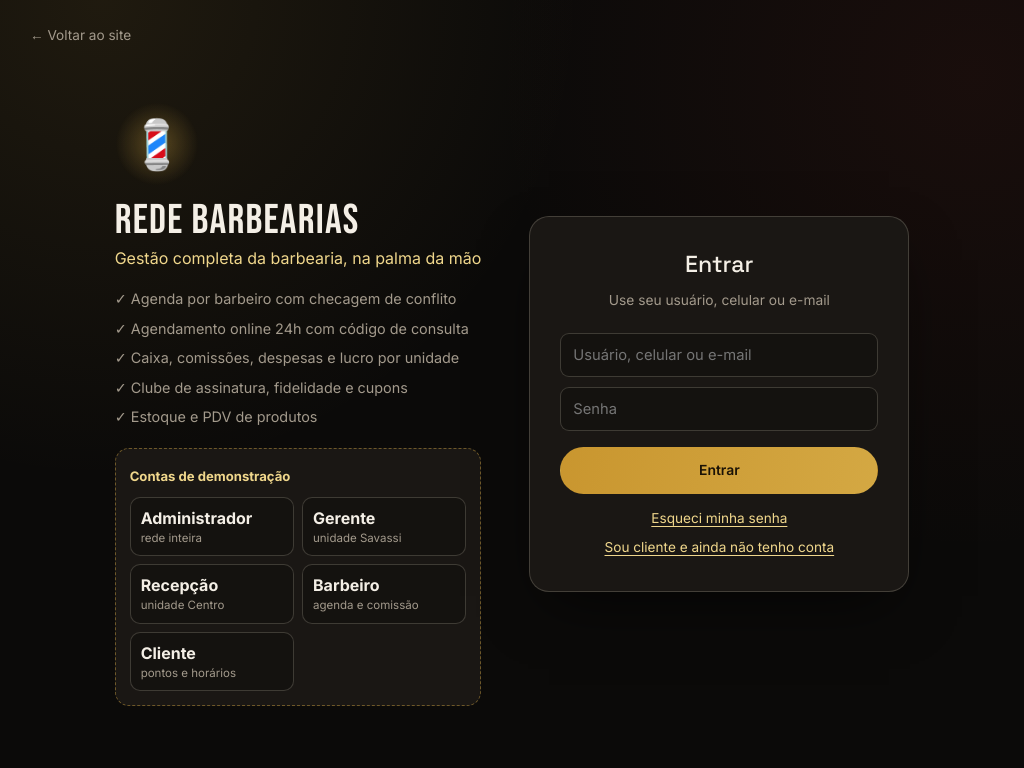
Test: Login › alterna pra criação de conta de cliente
Click the button "Sou cliente e ainda não tenho conta" at (719, 547), box [604, 536, 834, 557]
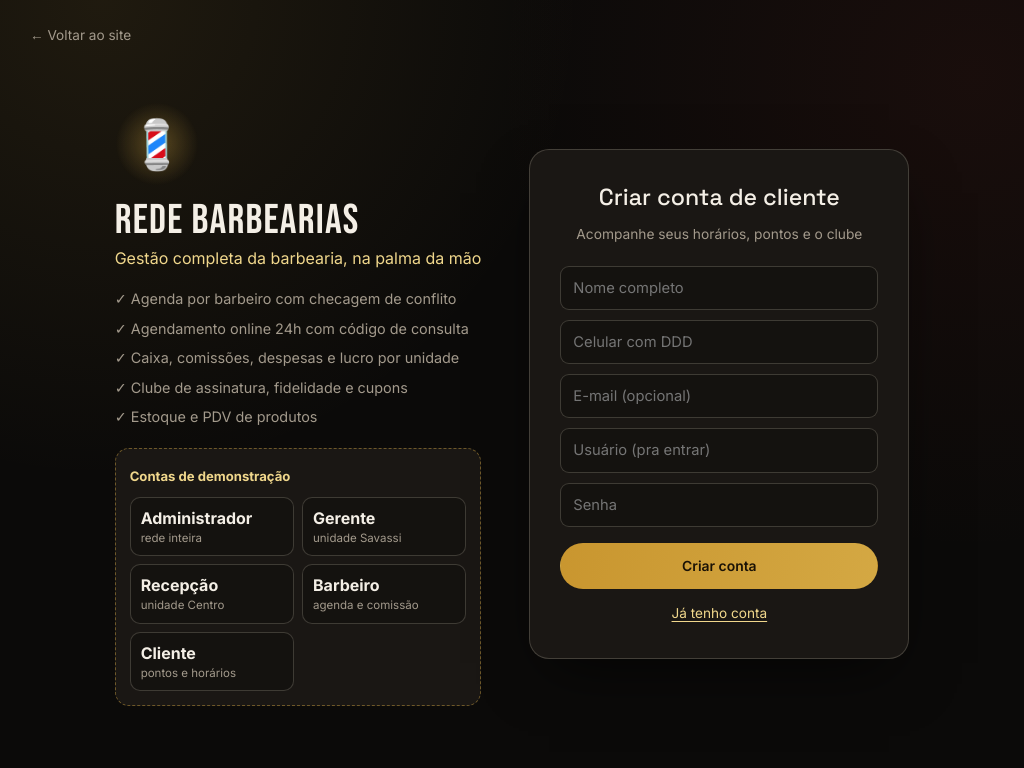
Now the field with placeholder "Nome completo" is shown, box [560, 266, 878, 310]
Now the field with placeholder "Celular com DDD" is shown, box [560, 320, 878, 364]
